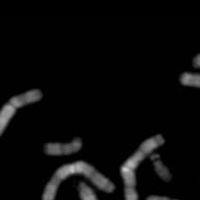chromosome: (120, 133, 165, 200), (39, 161, 114, 200), (0, 89, 42, 153), (180, 73, 200, 115), (150, 152, 173, 181), (45, 137, 82, 155), (76, 182, 109, 200), (145, 196, 200, 200), (191, 52, 200, 67)
